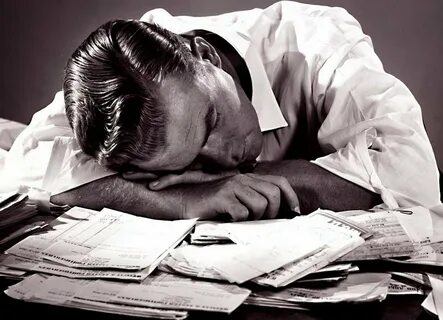sleep: (2, 1, 441, 224)
